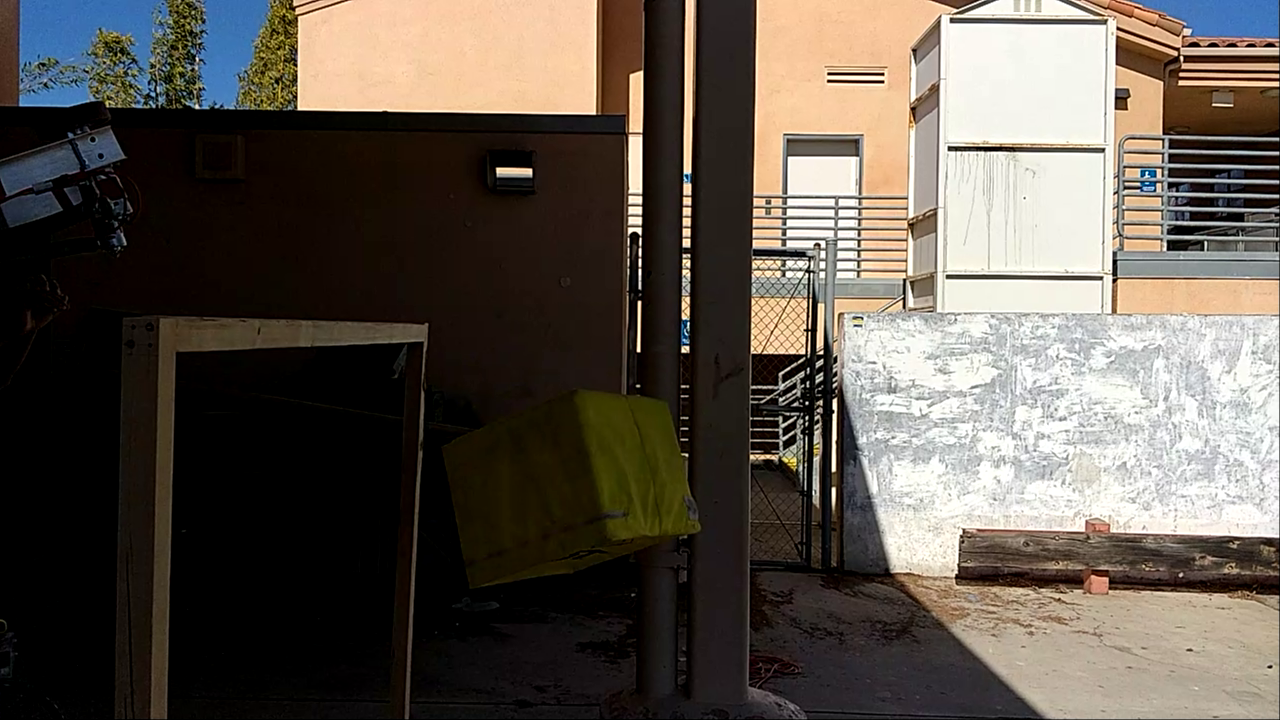cube: (441, 387, 702, 593)
